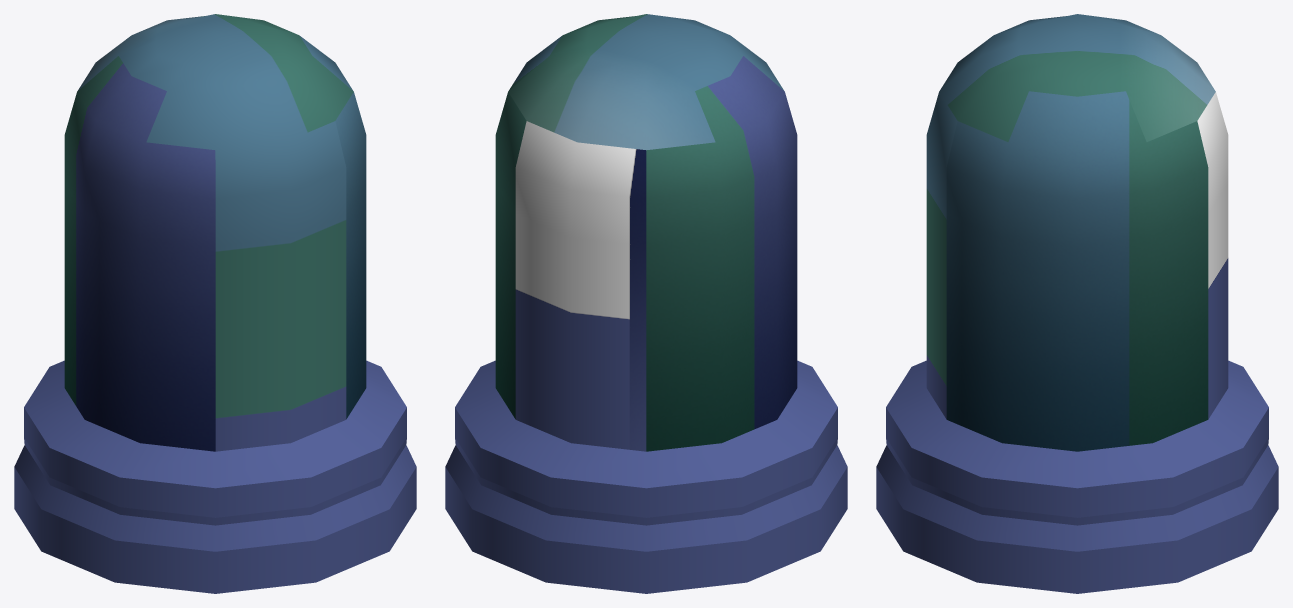
The model's file is FluidJar.fbx.
The picture shows the model from 3 angles, left to right: view 1: azimuth 30°, elevation 25°; view 2: azimuth 150°, elevation 25°; view 3: azimuth 270°, elevation 25°; orthographic projection.
Parts seen in each view (by area): view 1: JarGlass, JarStand; view 2: JarGlass, JarStand; view 3: JarGlass, JarStand.
Part boxes in pixels (box(x1,y1,x2,y2)): JarGlass: box(64, 14, 366, 451); JarStand: box(14, 360, 416, 593); JarGlass: box(495, 14, 797, 451); JarStand: box(445, 360, 847, 593); JarGlass: box(926, 14, 1228, 451); JarStand: box(876, 360, 1278, 593).
Bounding box in the file's own units: 1.7 × 2.22 × 1.7.
1 material, 1 textured.
